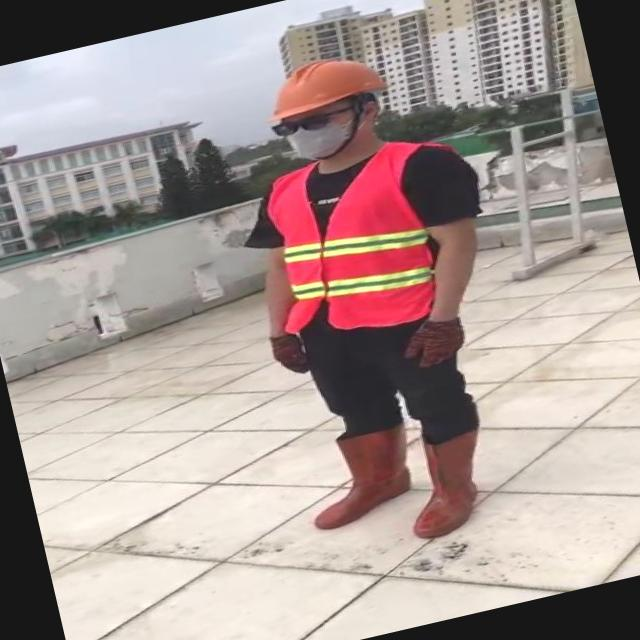boots: (298, 422, 424, 533), (392, 430, 496, 543)
helmet: (258, 44, 390, 125)
vest: (252, 138, 453, 347)
